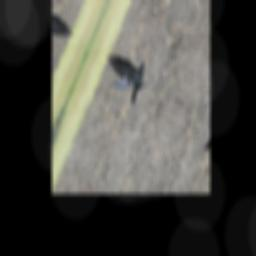Crow: (95, 37, 156, 109)
